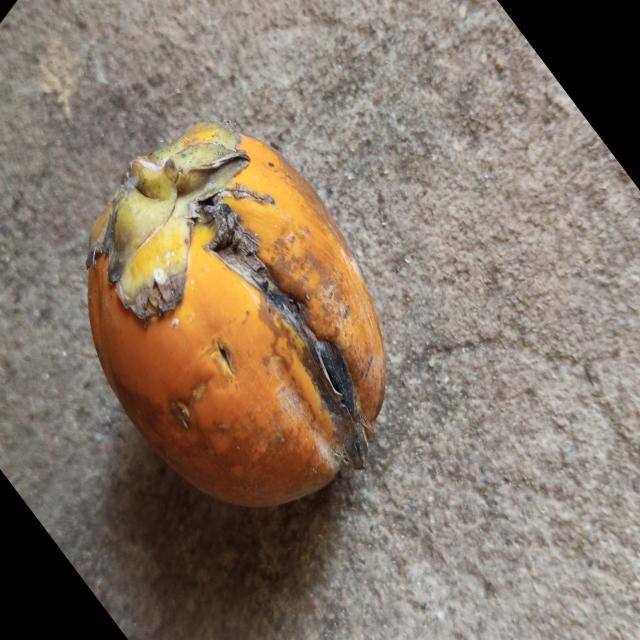damaged: (87, 123, 385, 506)
